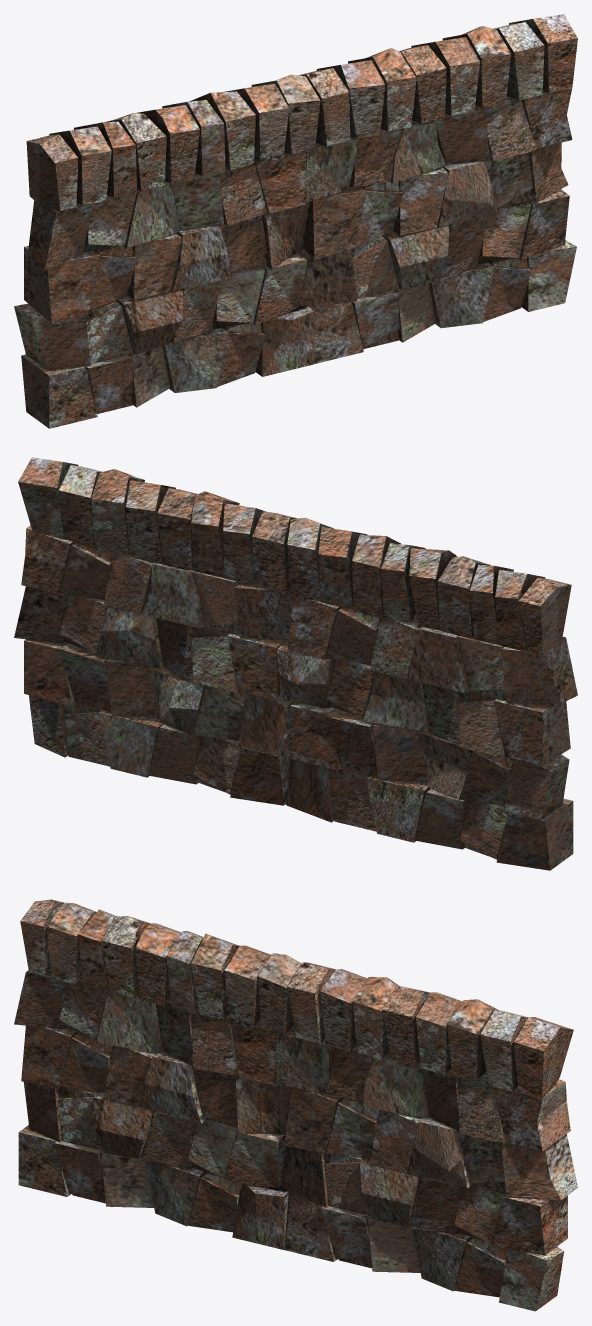
3 views of the same model, one above another, from view 1: azimuth 30°, elevation 25°; view 2: azimuth 150°, elevation 25°; view 3: azimuth 330°, elevation 25° (orthographic).
Visible parts, largest first — view 1: Cube.000; view 2: Cube.000; view 3: Cube.000.
Boxes of the visible parts, x1,y1,x2,y2 form: Cube.000: (14,14,577,428); Cube.000: (14,457,577,870); Cube.000: (14,899,577,1311).
Bounding box in the file's own units: 472 × 239 × 58.22.
Materials: 1 (1 with a texture image).
